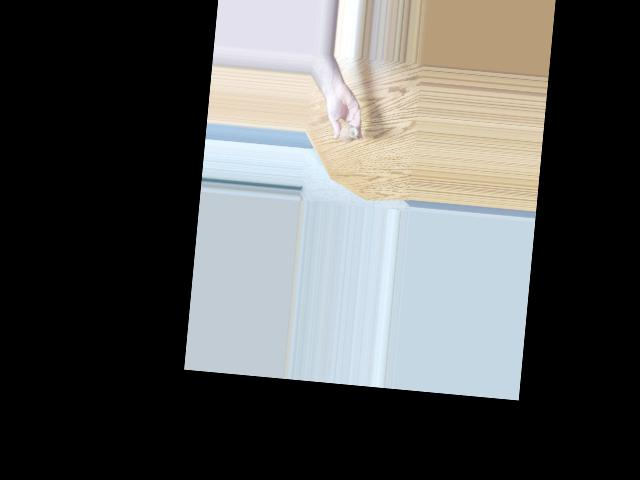sweet_potato: (338, 124, 357, 144)
